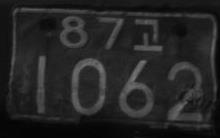0: (69, 56, 106, 115)
1: (26, 55, 60, 113)
2: (166, 59, 203, 121)
6: (117, 59, 154, 119)
7: (96, 15, 124, 50)
8: (58, 15, 88, 49)
고: (132, 17, 162, 52)
